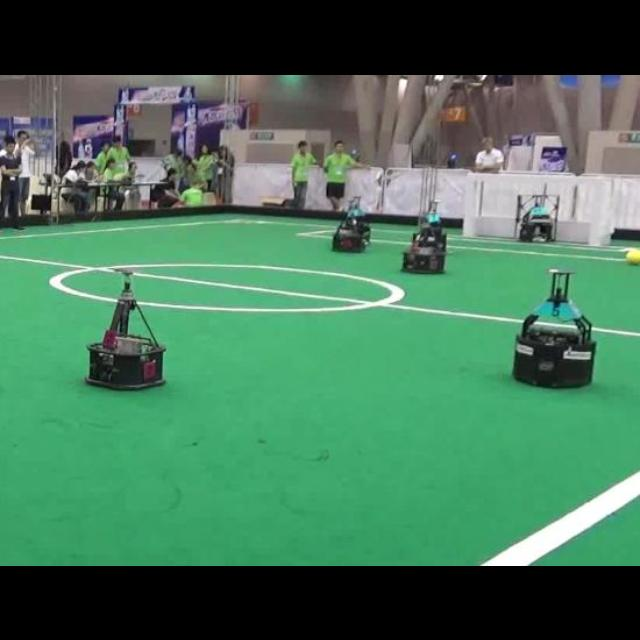ball: (626, 249, 639, 263)
goal: (588, 178, 606, 245), (462, 173, 478, 236)
robot: (513, 268, 595, 385), (86, 267, 164, 387), (401, 211, 446, 271), (514, 183, 560, 241), (332, 195, 370, 251)
